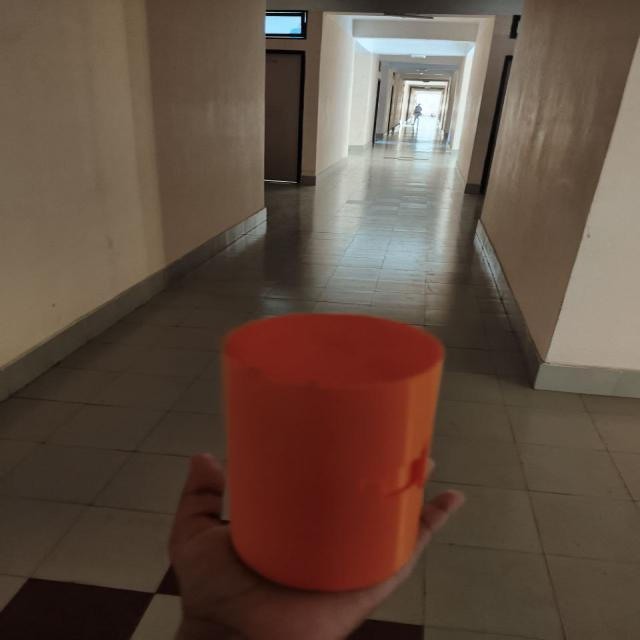Cylinder: (219, 312, 445, 592)
